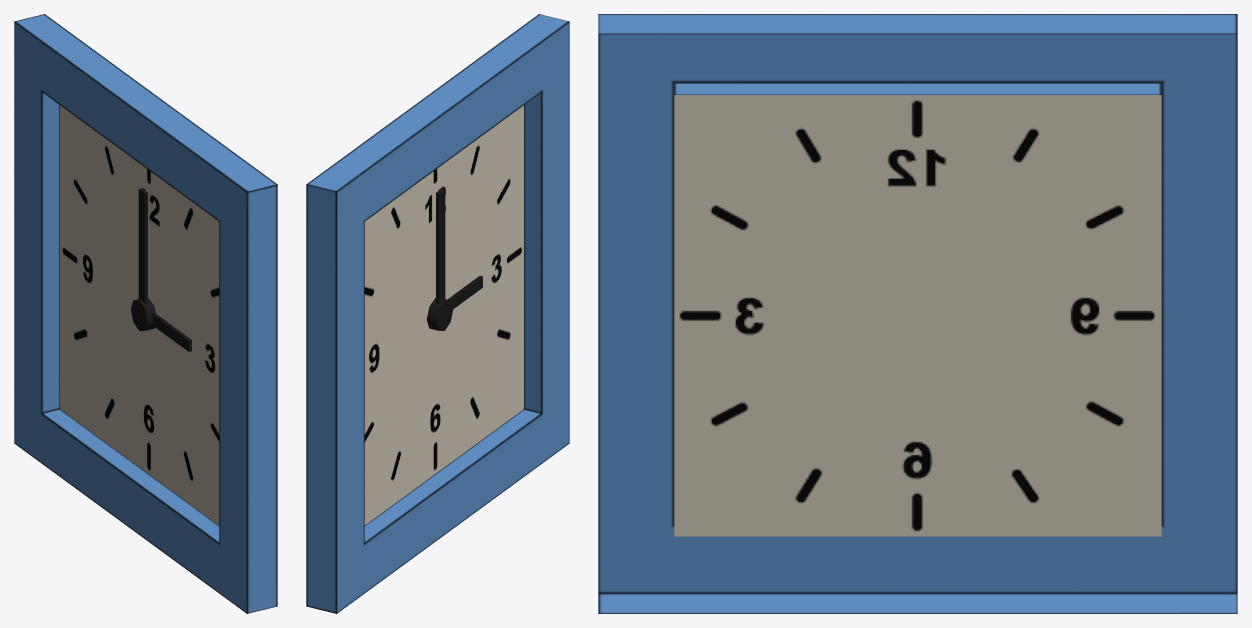
Rendered from clock_blue.fbx.
3 renders of one model, left to right at view 1: azimuth 30°, elevation 25°; view 2: azimuth 150°, elevation 25°; view 3: azimuth 270°, elevation 25°, orthographic. The views are drawn at different scales.
Parts seen in each view (by area): view 1: clockBlue, clockBlue_minute, clockBlue_hour; view 2: clockBlue, clockBlue_minute, clockBlue_hour; view 3: clockBlue.
Boxes of the visible parts, left/top/right/bottom form: clockBlue: left=14, top=14, right=277, bottom=613; clockBlue_minute: left=138, top=188, right=147, bottom=303; clockBlue_hour: left=152, top=313, right=191, bottom=351; clockBlue: left=306, top=14, right=569, bottom=613; clockBlue_minute: left=436, top=188, right=445, bottom=303; clockBlue_hour: left=447, top=276, right=482, bottom=309; clockBlue: left=598, top=14, right=1237, bottom=613.
Size of the model in its own units: 0.0361 by 0.4765 by 0.4765.
